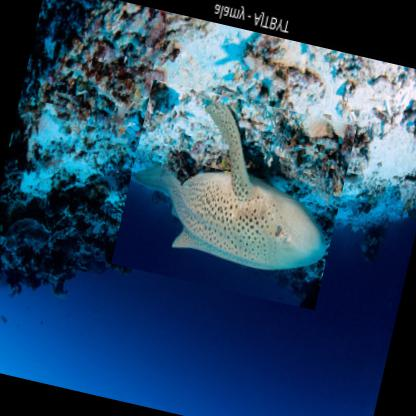zebra_shark: (111, 78, 358, 310)
